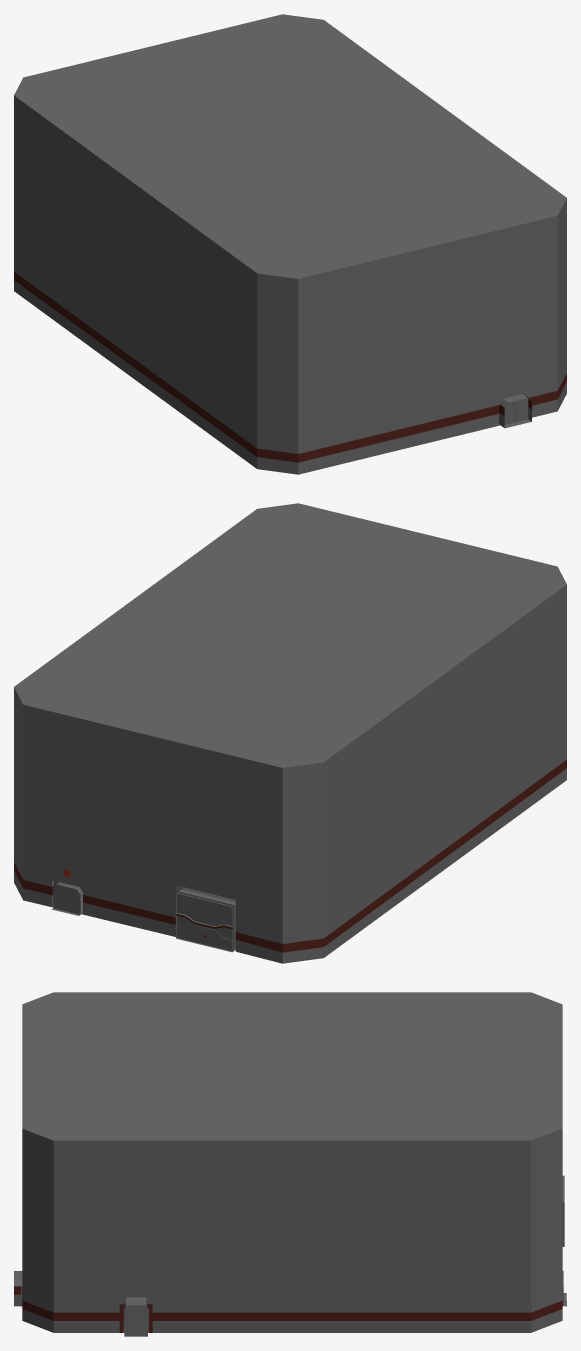
Rendered from Area 1 internal.fbx.
3 views of the same model, one above another, from view 1: azimuth 30°, elevation 25°; view 2: azimuth 150°, elevation 25°; view 3: azimuth 270°, elevation 25° (orthographic).
Parts seen in each view (by area): view 1: Cube; view 2: Cube, Cube.002, Cube.001; view 3: Cube.
Boxes of the visible parts, x1,y1,x2,y2 form: Cube: (14,14,566,474); Cube: (14,503,566,963); Cube.002: (176,891,234,940); Cube.001: (177,925,233,951); Cube: (14,992,566,1336).
Bounding box in the file's own units: 5086 × 2886 × 7527.
